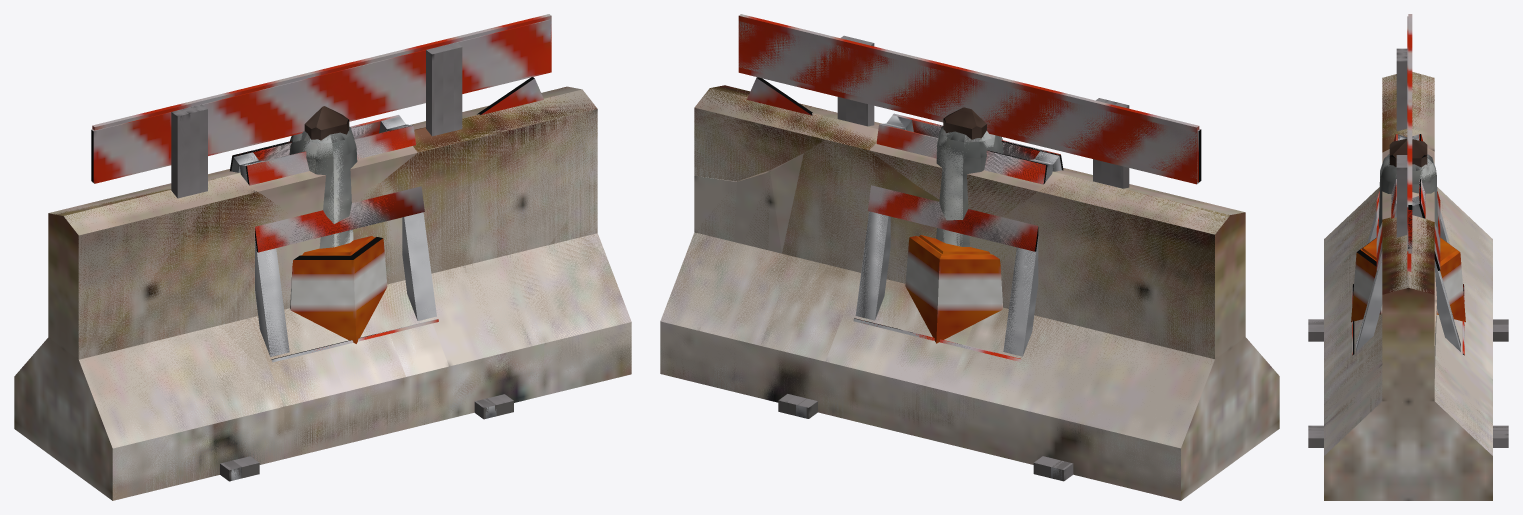
Rendered from RoadFurniture_Models.fbx.
The picture shows the model from 3 angles, left to right: view 1: azimuth 30°, elevation 25°; view 2: azimuth 150°, elevation 25°; view 3: azimuth 270°, elevation 25°; orthographic projection. The views are drawn at different scales.
Parts seen in each view (by area): view 1: Road_Jersey_barrier_broken_center_dirty, Road_Jersey_barrier, Road_Jersey_barrier_broken_center, Road_Type_3_barrier_broken_planks, Road_Jersey_barrier_broken_edge, Road_Jersey_barrier_broken_edge_dirty, Road_Type_2_barrier_top, Road_Construction_cone, Road_Type_2_barrier_top_bottom, Road_Type_3_barrier_3_planks, Road_Type_2_barrier_top_bottom_wood, Road_concrete_retro_bollard (+4 smaller); view 2: Road_Jersey_barrier, Road_Jersey_barrier_broken_center_dirty, Road_Jersey_barrier_broken_center, Road_Jersey_barrier_broken_edge, Road_Type_3_barrier_2_planks, Road_Type_3_barrier_3_planks, Road_Jersey_barrier_broken_edge_dirty, Road_Type_2_barrier_top, Road_Type_2_barrier_top_bottom, Road_Construction_cone, Road_concrete_retro_bollard, Road_Type_2_barrier_top_bottom_wood (+4 smaller); view 3: Road_Jersey_barrier_broken_center_dirty, Road_Jersey_barrier, Road_Jersey_barrier_broken_edge, Road_Jersey_barrier_broken_center, Road_Jersey_barrier_broken_edge_dirty, Road_Type_2_barrier_top_bottom_wood, Road_Type_3_barrier_stilts, Road_Construction_cone, Road_Type_3_barrier_3_planks, Road_concrete_retro_bollard, Road_Type_2_barrier_top_bottom, Road_Type_3_barrier_broken_planks (+5 smaller).
Boxes of the visible parts, bbox=[...] form: Road_Jersey_barrier_broken_center_dirty: bbox=[14, 87, 631, 500]; Road_Jersey_barrier: bbox=[48, 86, 625, 500]; Road_Jersey_barrier_broken_center: bbox=[51, 86, 631, 500]; Road_Type_3_barrier_broken_planks: bbox=[91, 19, 550, 481]; Road_Jersey_barrier_broken_edge: bbox=[64, 121, 582, 499]; Road_Jersey_barrier_broken_edge_dirty: bbox=[104, 200, 597, 496]; Road_Type_2_barrier_top: bbox=[231, 115, 436, 356]; Road_Construction_cone: bbox=[290, 237, 387, 343]; Road_Type_2_barrier_top_bottom: bbox=[230, 124, 438, 361]; Road_Type_3_barrier_3_planks: bbox=[92, 14, 551, 478]; Road_Type_2_barrier_top_bottom_wood: bbox=[239, 116, 437, 362]; Road_concrete_retro_bollard: bbox=[289, 126, 357, 248]; Road_Jersey_barrier: bbox=[660, 88, 1244, 500]; Road_Jersey_barrier_broken_center_dirty: bbox=[660, 85, 1279, 500]; Road_Jersey_barrier_broken_center: bbox=[660, 89, 1241, 499]; Road_Jersey_barrier_broken_edge: bbox=[660, 120, 1244, 400]; Road_Type_3_barrier_2_planks: bbox=[738, 21, 1198, 480]; Road_Type_3_barrier_3_planks: bbox=[738, 14, 1199, 478]; Road_Jersey_barrier_broken_edge_dirty: bbox=[660, 140, 1213, 415]; Road_Type_2_barrier_top: bbox=[856, 113, 1061, 355]; Road_Type_2_barrier_top_bottom: bbox=[855, 116, 1063, 361]; Road_Construction_cone: bbox=[905, 236, 1002, 343]; Road_concrete_retro_bollard: bbox=[936, 126, 1003, 246]; Road_Type_2_barrier_top_bottom_wood: bbox=[853, 123, 1058, 356]; Road_Jersey_barrier_broken_center_dirty: bbox=[1324, 72, 1492, 500]; Road_Jersey_barrier: bbox=[1324, 72, 1492, 455]; Road_Jersey_barrier_broken_edge: bbox=[1324, 78, 1492, 454]; Road_Jersey_barrier_broken_center: bbox=[1324, 74, 1492, 455]; Road_Jersey_barrier_broken_edge_dirty: bbox=[1324, 190, 1492, 455]; Road_Type_2_barrier_top_bottom_wood: bbox=[1356, 134, 1464, 351]; Road_Type_3_barrier_stilts: bbox=[1308, 56, 1508, 447]; Road_Construction_cone: bbox=[1351, 238, 1465, 322]; Road_Type_3_barrier_3_planks: bbox=[1308, 14, 1508, 433]; Road_concrete_retro_bollard: bbox=[1378, 154, 1438, 230]; Road_Type_2_barrier_top_bottom: bbox=[1352, 134, 1464, 355]; Road_Type_3_barrier_broken_planks: bbox=[1308, 16, 1508, 429].
Size of the model in its own units: 2.48 by 1.51 by 0.967.
1 material, 1 textured.
